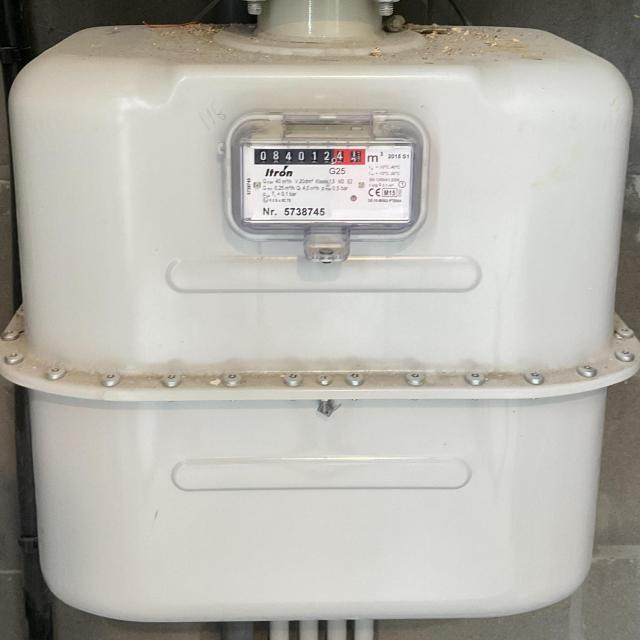gaz_meter: (238, 136, 416, 224)
indication: (253, 146, 369, 167)
